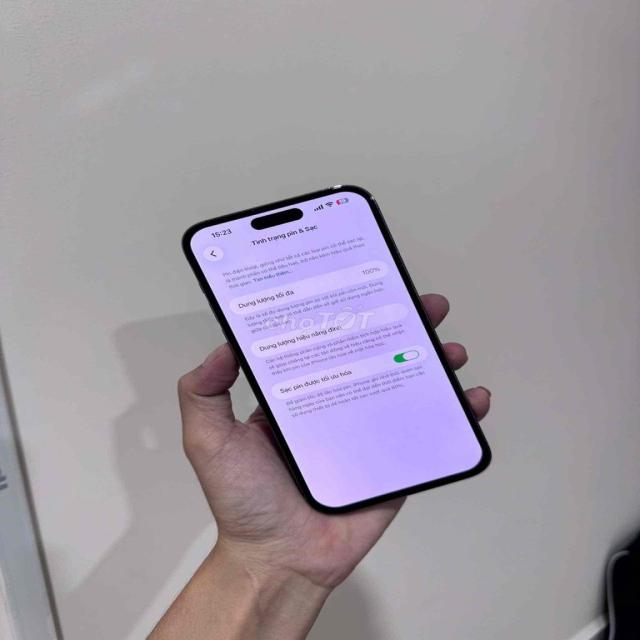gen_14: (157, 177, 511, 512)
